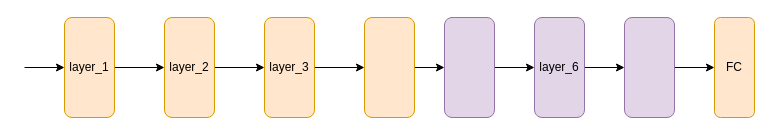
Image size: 772x135. Some labels were removed from this diagram. Each missing label, with the box of its shape:
layer_4: (364, 16, 414, 118)
layer_5: (444, 16, 494, 118)
layer_7: (624, 16, 674, 118)
